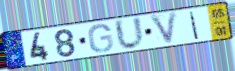4: (29, 31, 51, 62)
8: (54, 28, 78, 59)
G: (87, 23, 115, 54)
I: (189, 11, 201, 40)
U: (113, 16, 147, 52)
V: (148, 9, 180, 47)
